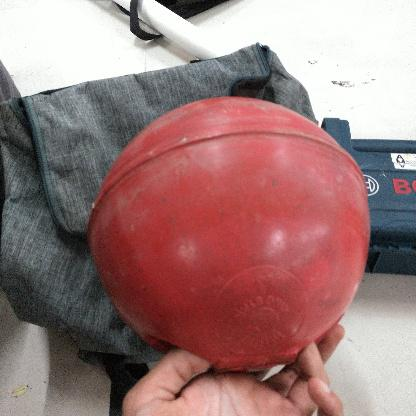red_buoy: (94, 93, 370, 365)
